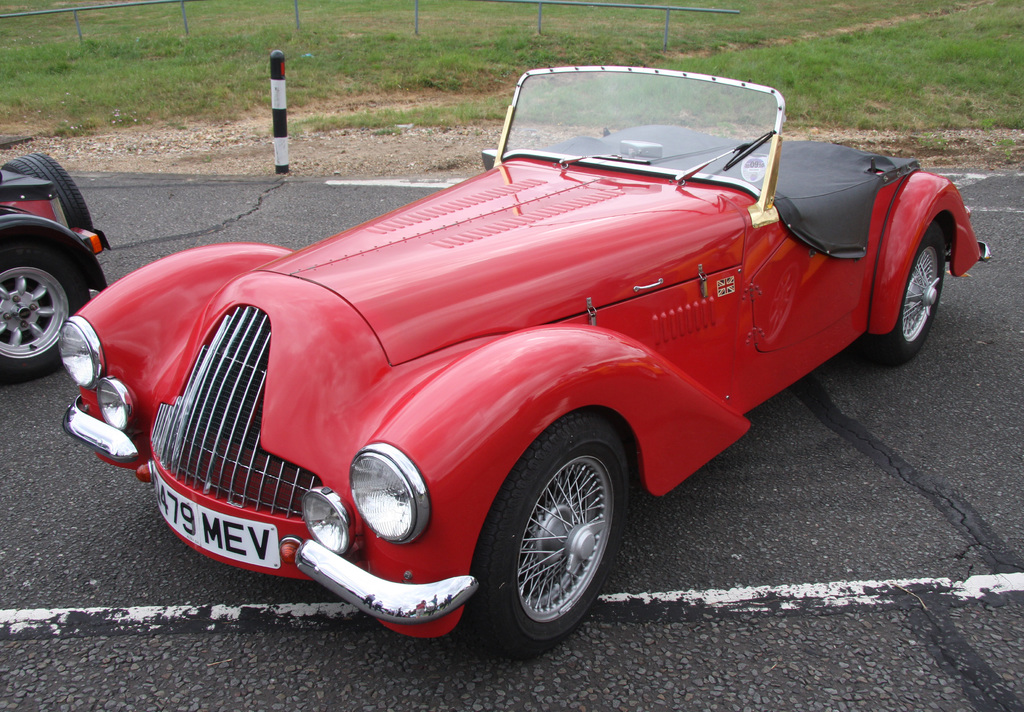Car: (55, 59, 988, 664), (0, 159, 103, 388)
